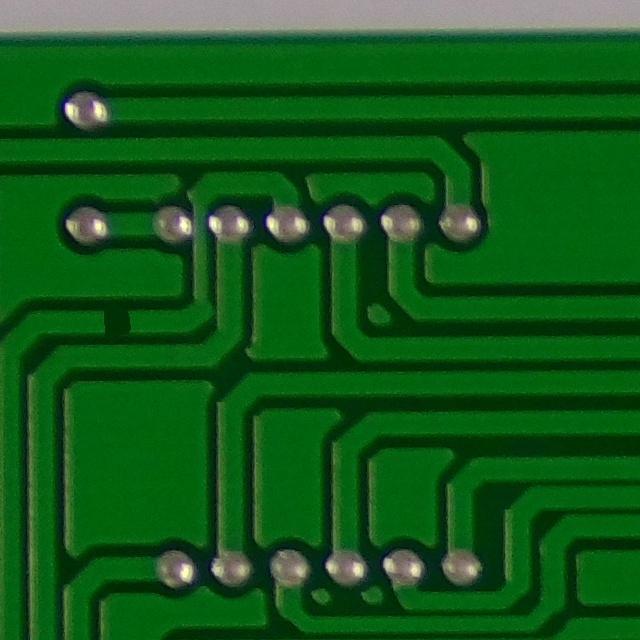open_circuit: (92, 302, 143, 341)
